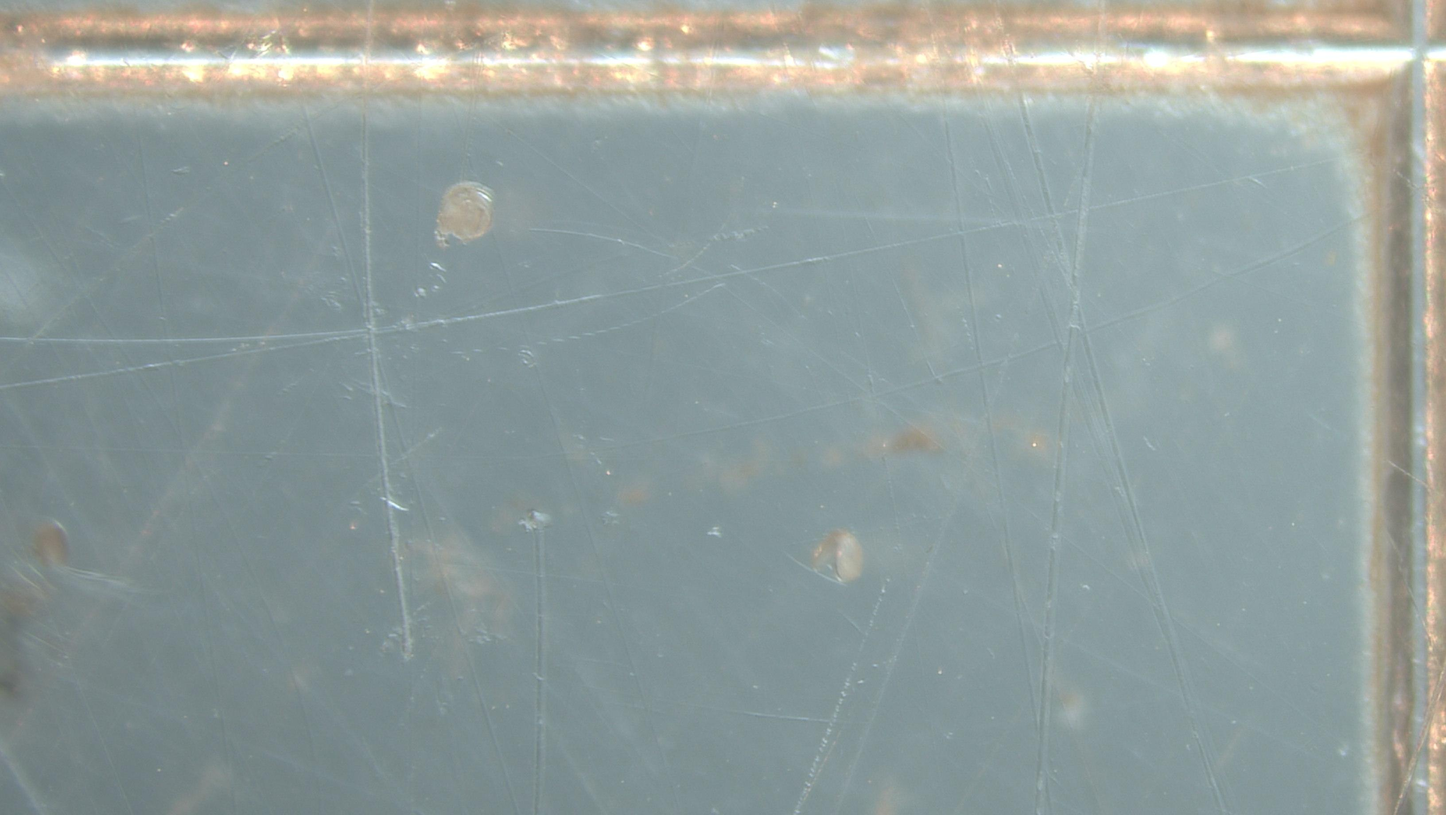live: (435, 181, 493, 247)
